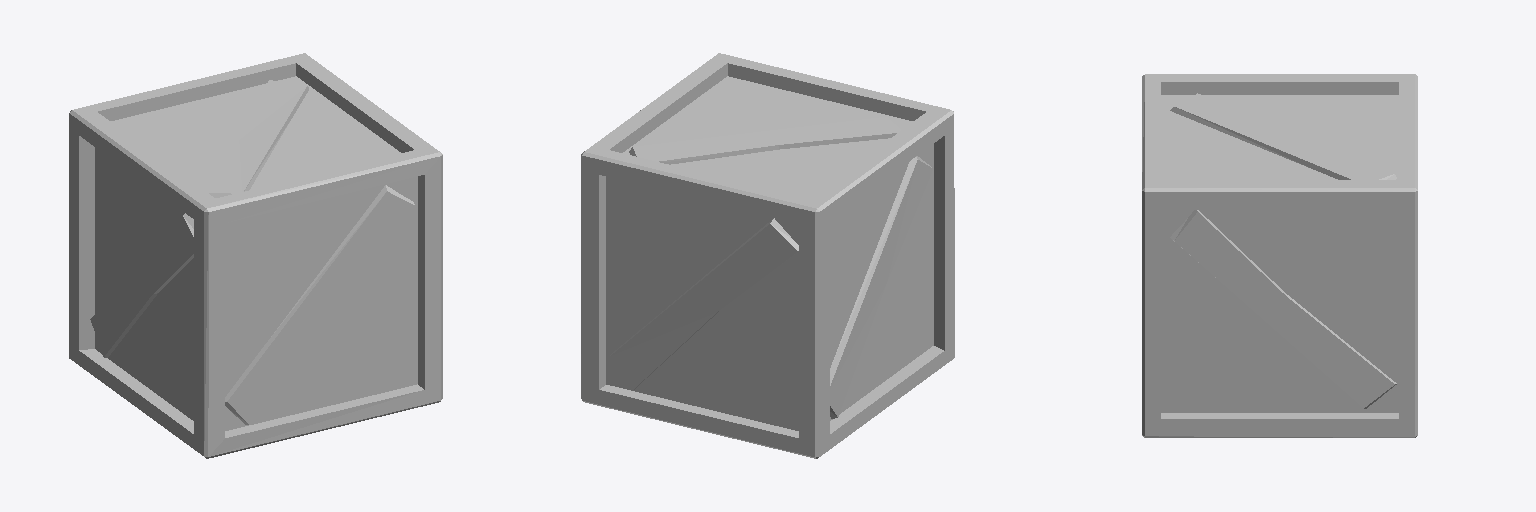
The picture shows the model from 3 angles: view 1: azimuth 30°, elevation 25°; view 2: azimuth 150°, elevation 25°; view 3: azimuth 270°, elevation 25°; orthographic projection.
Visible parts, largest first — view 1: crate002_Material #51_0; view 2: crate002_Material #51_0; view 3: crate002_Material #51_0.
Part boxes in pixels (bbox=[...]): crate002_Material #51_0: bbox=[69, 53, 442, 458]; crate002_Material #51_0: bbox=[581, 53, 954, 458]; crate002_Material #51_0: bbox=[1142, 74, 1417, 437].
Size of the model in its own units: 60.02 by 60.16 by 60.16.